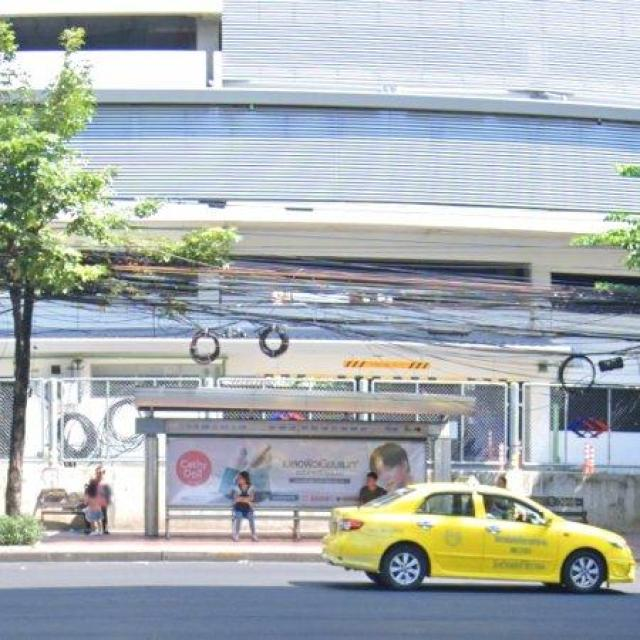Taxi: (324, 485, 637, 594)
